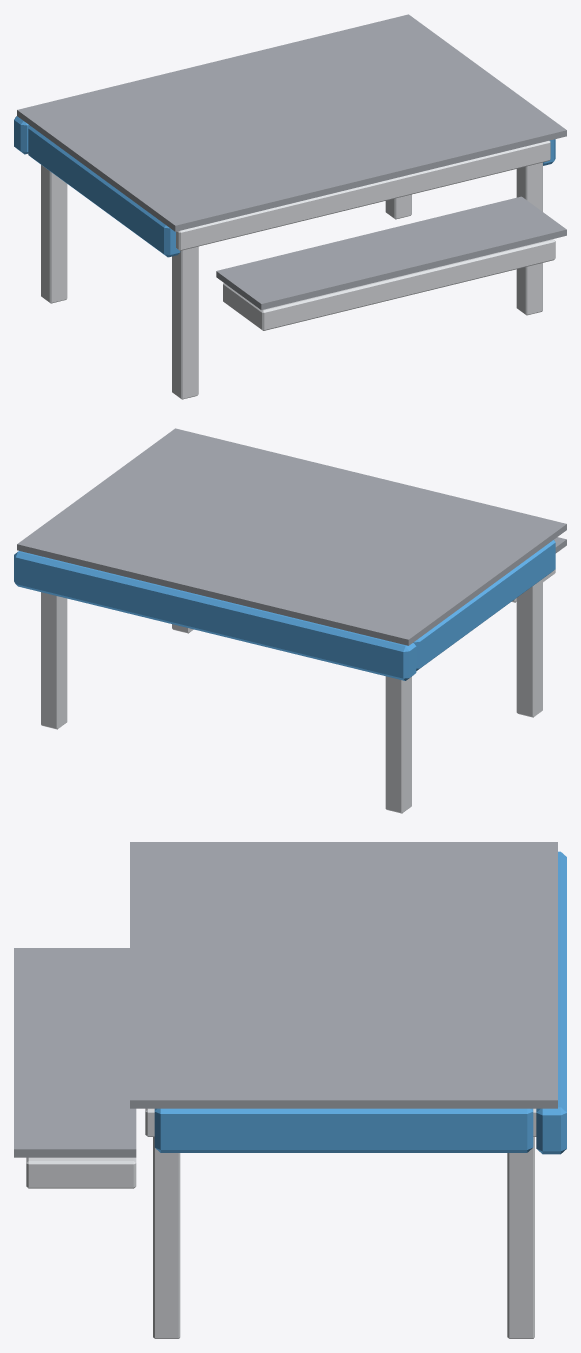
File: trampoline-park-and-soft-play-court-edge-platform-5c83eea9__34610.glb
3 views of the same model, one above another, from view 1: azimuth 30°, elevation 25°; view 2: azimuth 150°, elevation 25°; view 3: azimuth 270°, elevation 25° (orthographic). The views are drawn at different scales.
Visible parts, largest first — view 1: court-edge-platform; view 2: court-edge-platform; view 3: court-edge-platform.
Boxes of the visible parts, x1=… form: court-edge-platform: x1=14, y1=14, x2=566, y2=399; court-edge-platform: x1=14, y1=428, x2=566, y2=813; court-edge-platform: x1=14, y1=842, x2=566, y2=1338.
Size of the model in its own units: 2.02 by 0.9 by 1.81.
